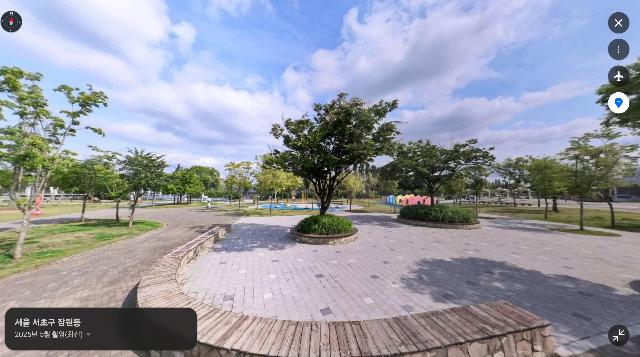other: (251, 82, 404, 250), (0, 65, 109, 260), (375, 138, 500, 209), (589, 58, 640, 229), (92, 146, 178, 225), (554, 136, 609, 230), (516, 154, 572, 221), (62, 151, 114, 223), (254, 158, 305, 215), (493, 155, 540, 208), (174, 165, 222, 208), (147, 165, 191, 210), (224, 159, 258, 212)
